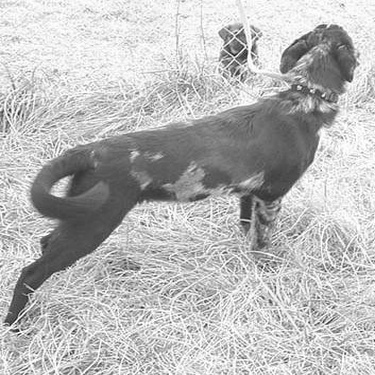dog: (1, 19, 362, 336), (215, 19, 265, 82)
